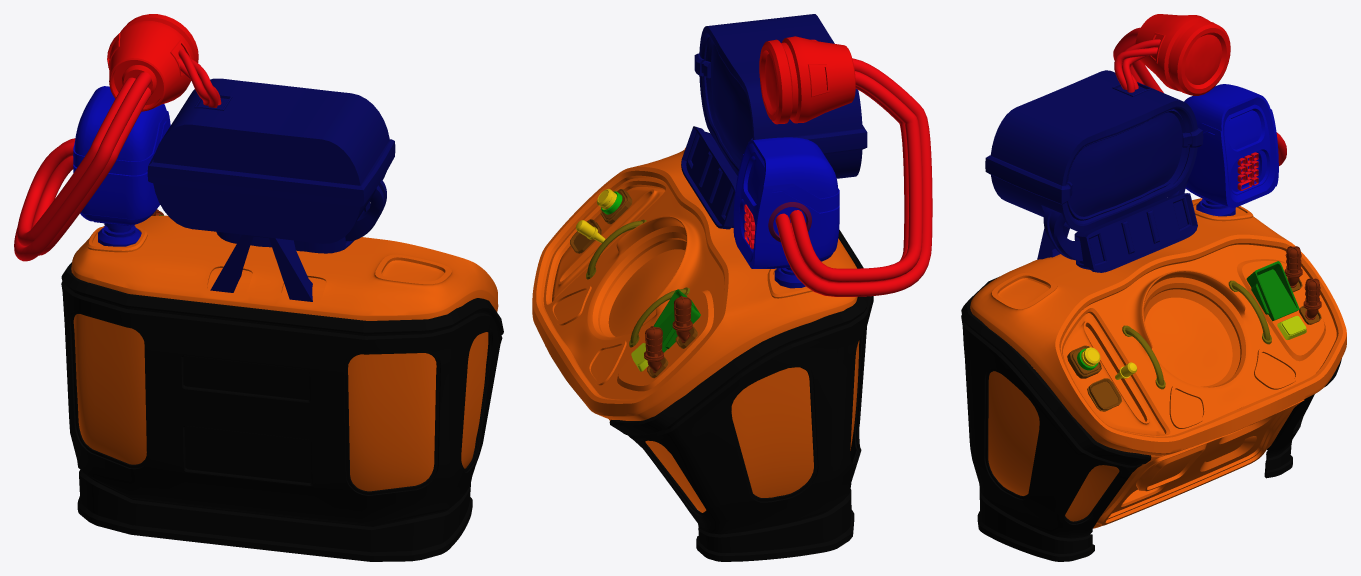
File: Maquina2.fbx
3 views of the same model, side by side, from view 1: azimuth 30°, elevation 25°; view 2: azimuth 150°, elevation 25°; view 3: azimuth 270°, elevation 25° (orthographic). The views are drawn at different scales.
Visible parts, largest first — view 1: Maquina3Base, Mk4; view 2: Maquina3Base, Mk4; view 3: Maquina3Base, Mk4.
Boxes of the visible parts, bbox=[...] form: Maquina3Base: bbox=[61, 209, 503, 561]; Mk4: bbox=[14, 14, 395, 301]; Maquina3Base: bbox=[532, 147, 873, 561]; Mk4: bbox=[681, 14, 932, 296]; Maquina3Base: bbox=[961, 198, 1346, 561]; Mk4: bbox=[985, 14, 1286, 272].
Bounding box in the file's own units: 202 × 220 × 176.
